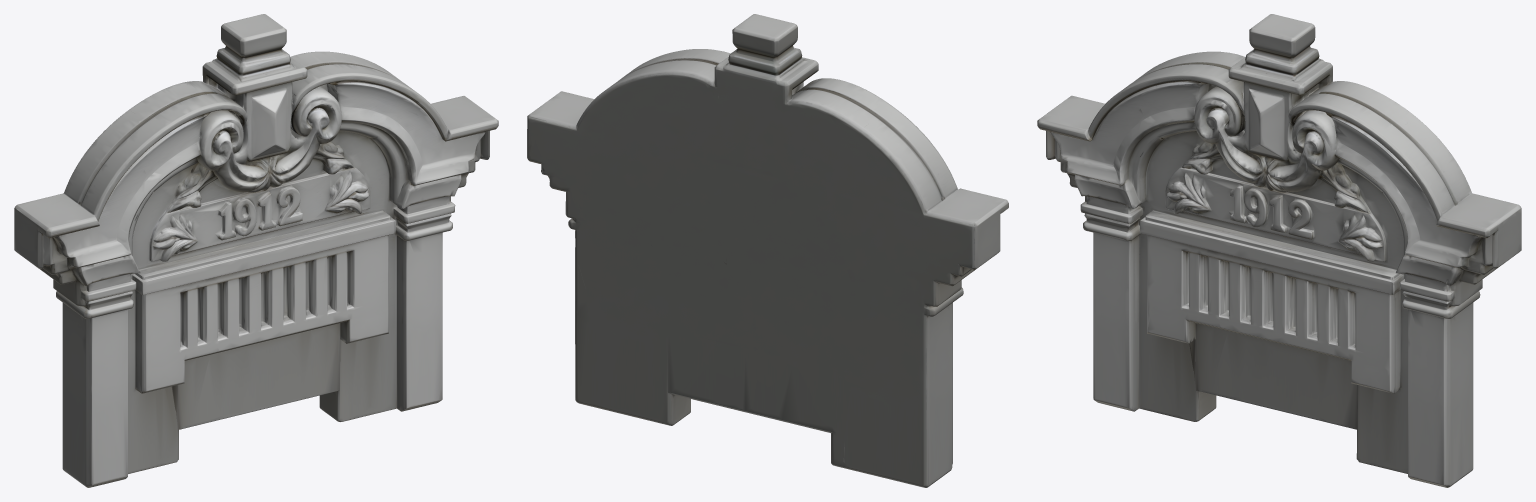
The model's file is SM_Build01_Relievo_10.fbx.
The picture shows the model from 3 angles, left to right: view 1: azimuth 30°, elevation 25°; view 2: azimuth 150°, elevation 25°; view 3: azimuth 330°, elevation 25°; orthographic projection.
Visible parts, largest first — view 1: SM_Build01_Relievo_10; view 2: SM_Build01_Relievo_10; view 3: SM_Build01_Relievo_10.
Boxes of the visible parts, x1,y1,x2,y2 form: SM_Build01_Relievo_10: (14,14,498,487); SM_Build01_Relievo_10: (527,14,1008,487); SM_Build01_Relievo_10: (1037,14,1521,487).
Bounding box in the file's own units: 301 × 262 × 42.58.
